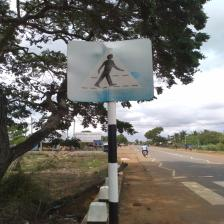blueboard: (65, 38, 155, 102)
crossing: (130, 144, 224, 206)
